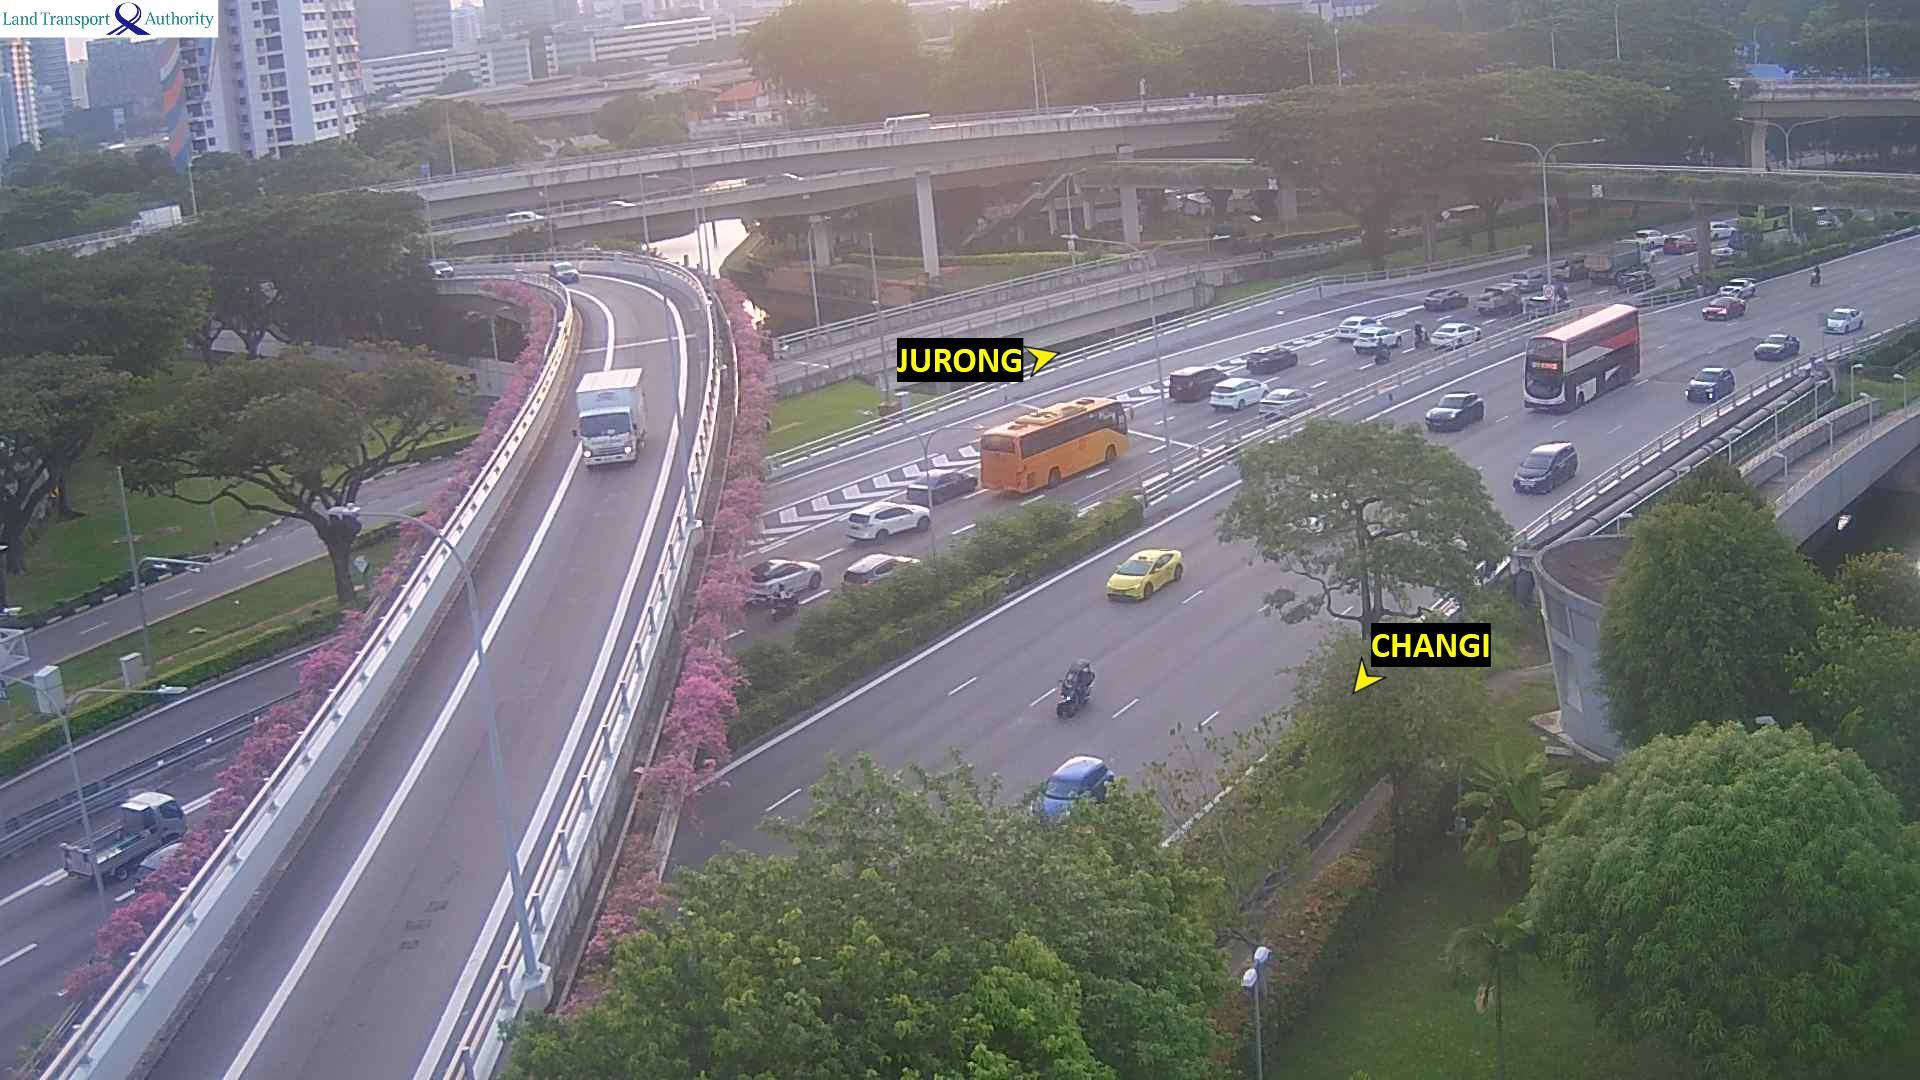bus: (978, 395, 1129, 495), (1521, 302, 1641, 412), (1738, 203, 1790, 234)
cars: (1032, 754, 1115, 823), (1105, 547, 1183, 601), (746, 557, 821, 607), (844, 499, 930, 542), (1512, 441, 1578, 493), (841, 551, 923, 589), (1287, 487, 1348, 535), (906, 468, 976, 506), (1424, 390, 1484, 431), (1167, 364, 1225, 402), (1208, 375, 1267, 411), (1685, 364, 1734, 402), (1257, 386, 1312, 418), (1522, 281, 1568, 315), (1429, 319, 1481, 349), (1245, 344, 1297, 373), (1352, 323, 1401, 353), (1474, 285, 1520, 315), (1752, 331, 1799, 360), (1701, 292, 1745, 319), (1422, 286, 1467, 310), (1336, 314, 1377, 340), (1824, 306, 1863, 333), (1616, 267, 1654, 292), (1720, 276, 1757, 299), (1509, 265, 1545, 288), (1662, 230, 1696, 254), (549, 259, 579, 283), (1811, 206, 1840, 229), (769, 170, 802, 189), (1069, 108, 1107, 124), (1708, 218, 1736, 239), (1634, 227, 1664, 246), (426, 258, 454, 278), (505, 210, 544, 222), (1709, 242, 1733, 260), (608, 198, 639, 208)
motorcycle: (1054, 658, 1095, 718), (1411, 316, 1430, 359), (1374, 336, 1391, 367), (1811, 266, 1823, 288)
trucks: (58, 789, 185, 883), (572, 365, 647, 467), (1585, 239, 1658, 269), (885, 113, 933, 136), (1553, 248, 1584, 279)
